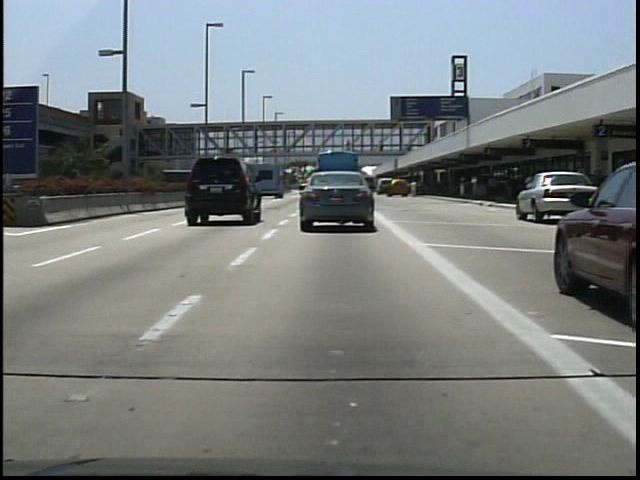person: (405, 177, 420, 203), (376, 136, 390, 158), (342, 136, 355, 156)
